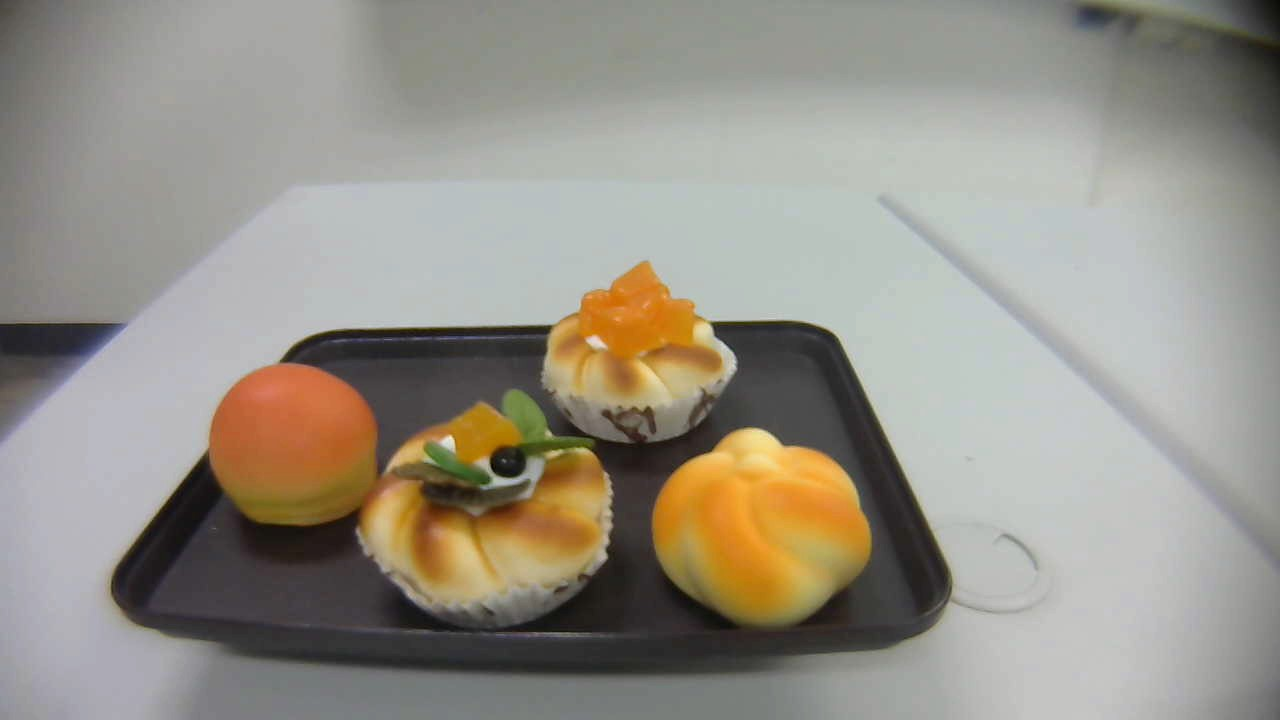bun: (208, 363, 377, 525)
fruit tart: (358, 388, 614, 630)
mango tart: (542, 261, 738, 442)
twist bread: (650, 426, 874, 631)
